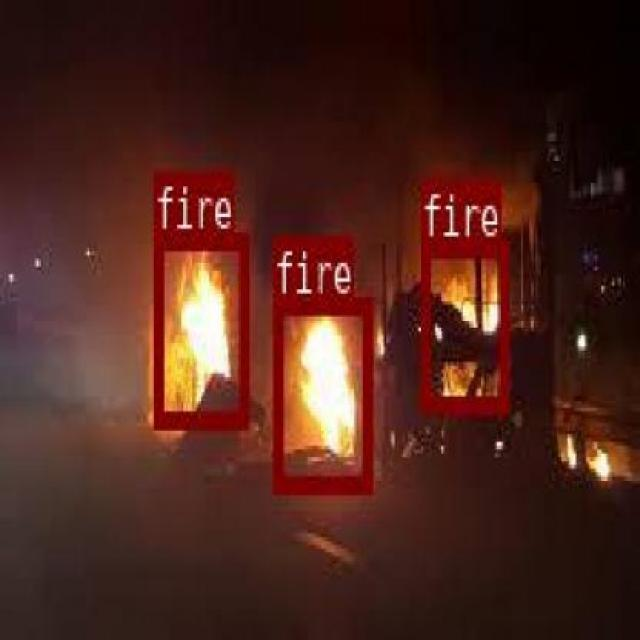Fire: (272, 294, 371, 491), (151, 230, 247, 424), (418, 238, 508, 411)
